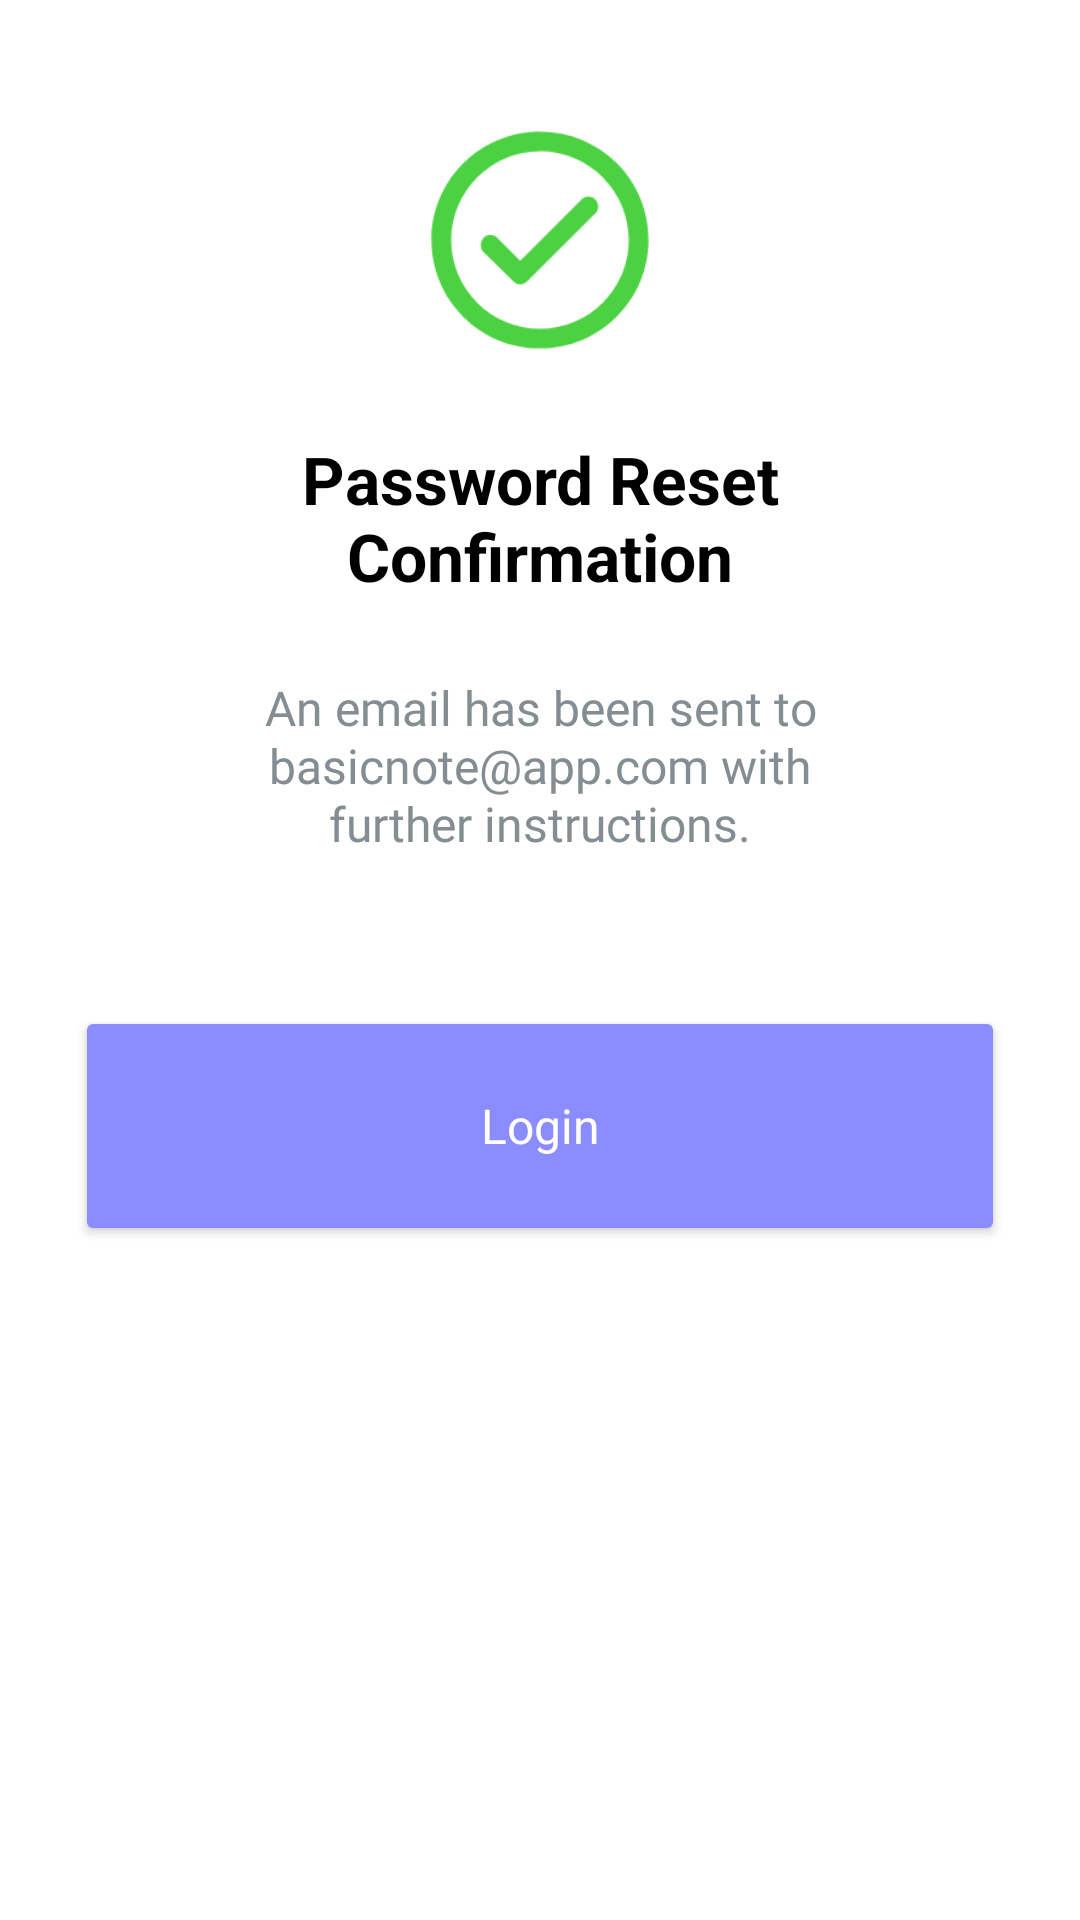

Where icons sit on this 1080*1920 app screen, as (x1, y1, x2, y2):
success: (431, 131, 649, 349)
